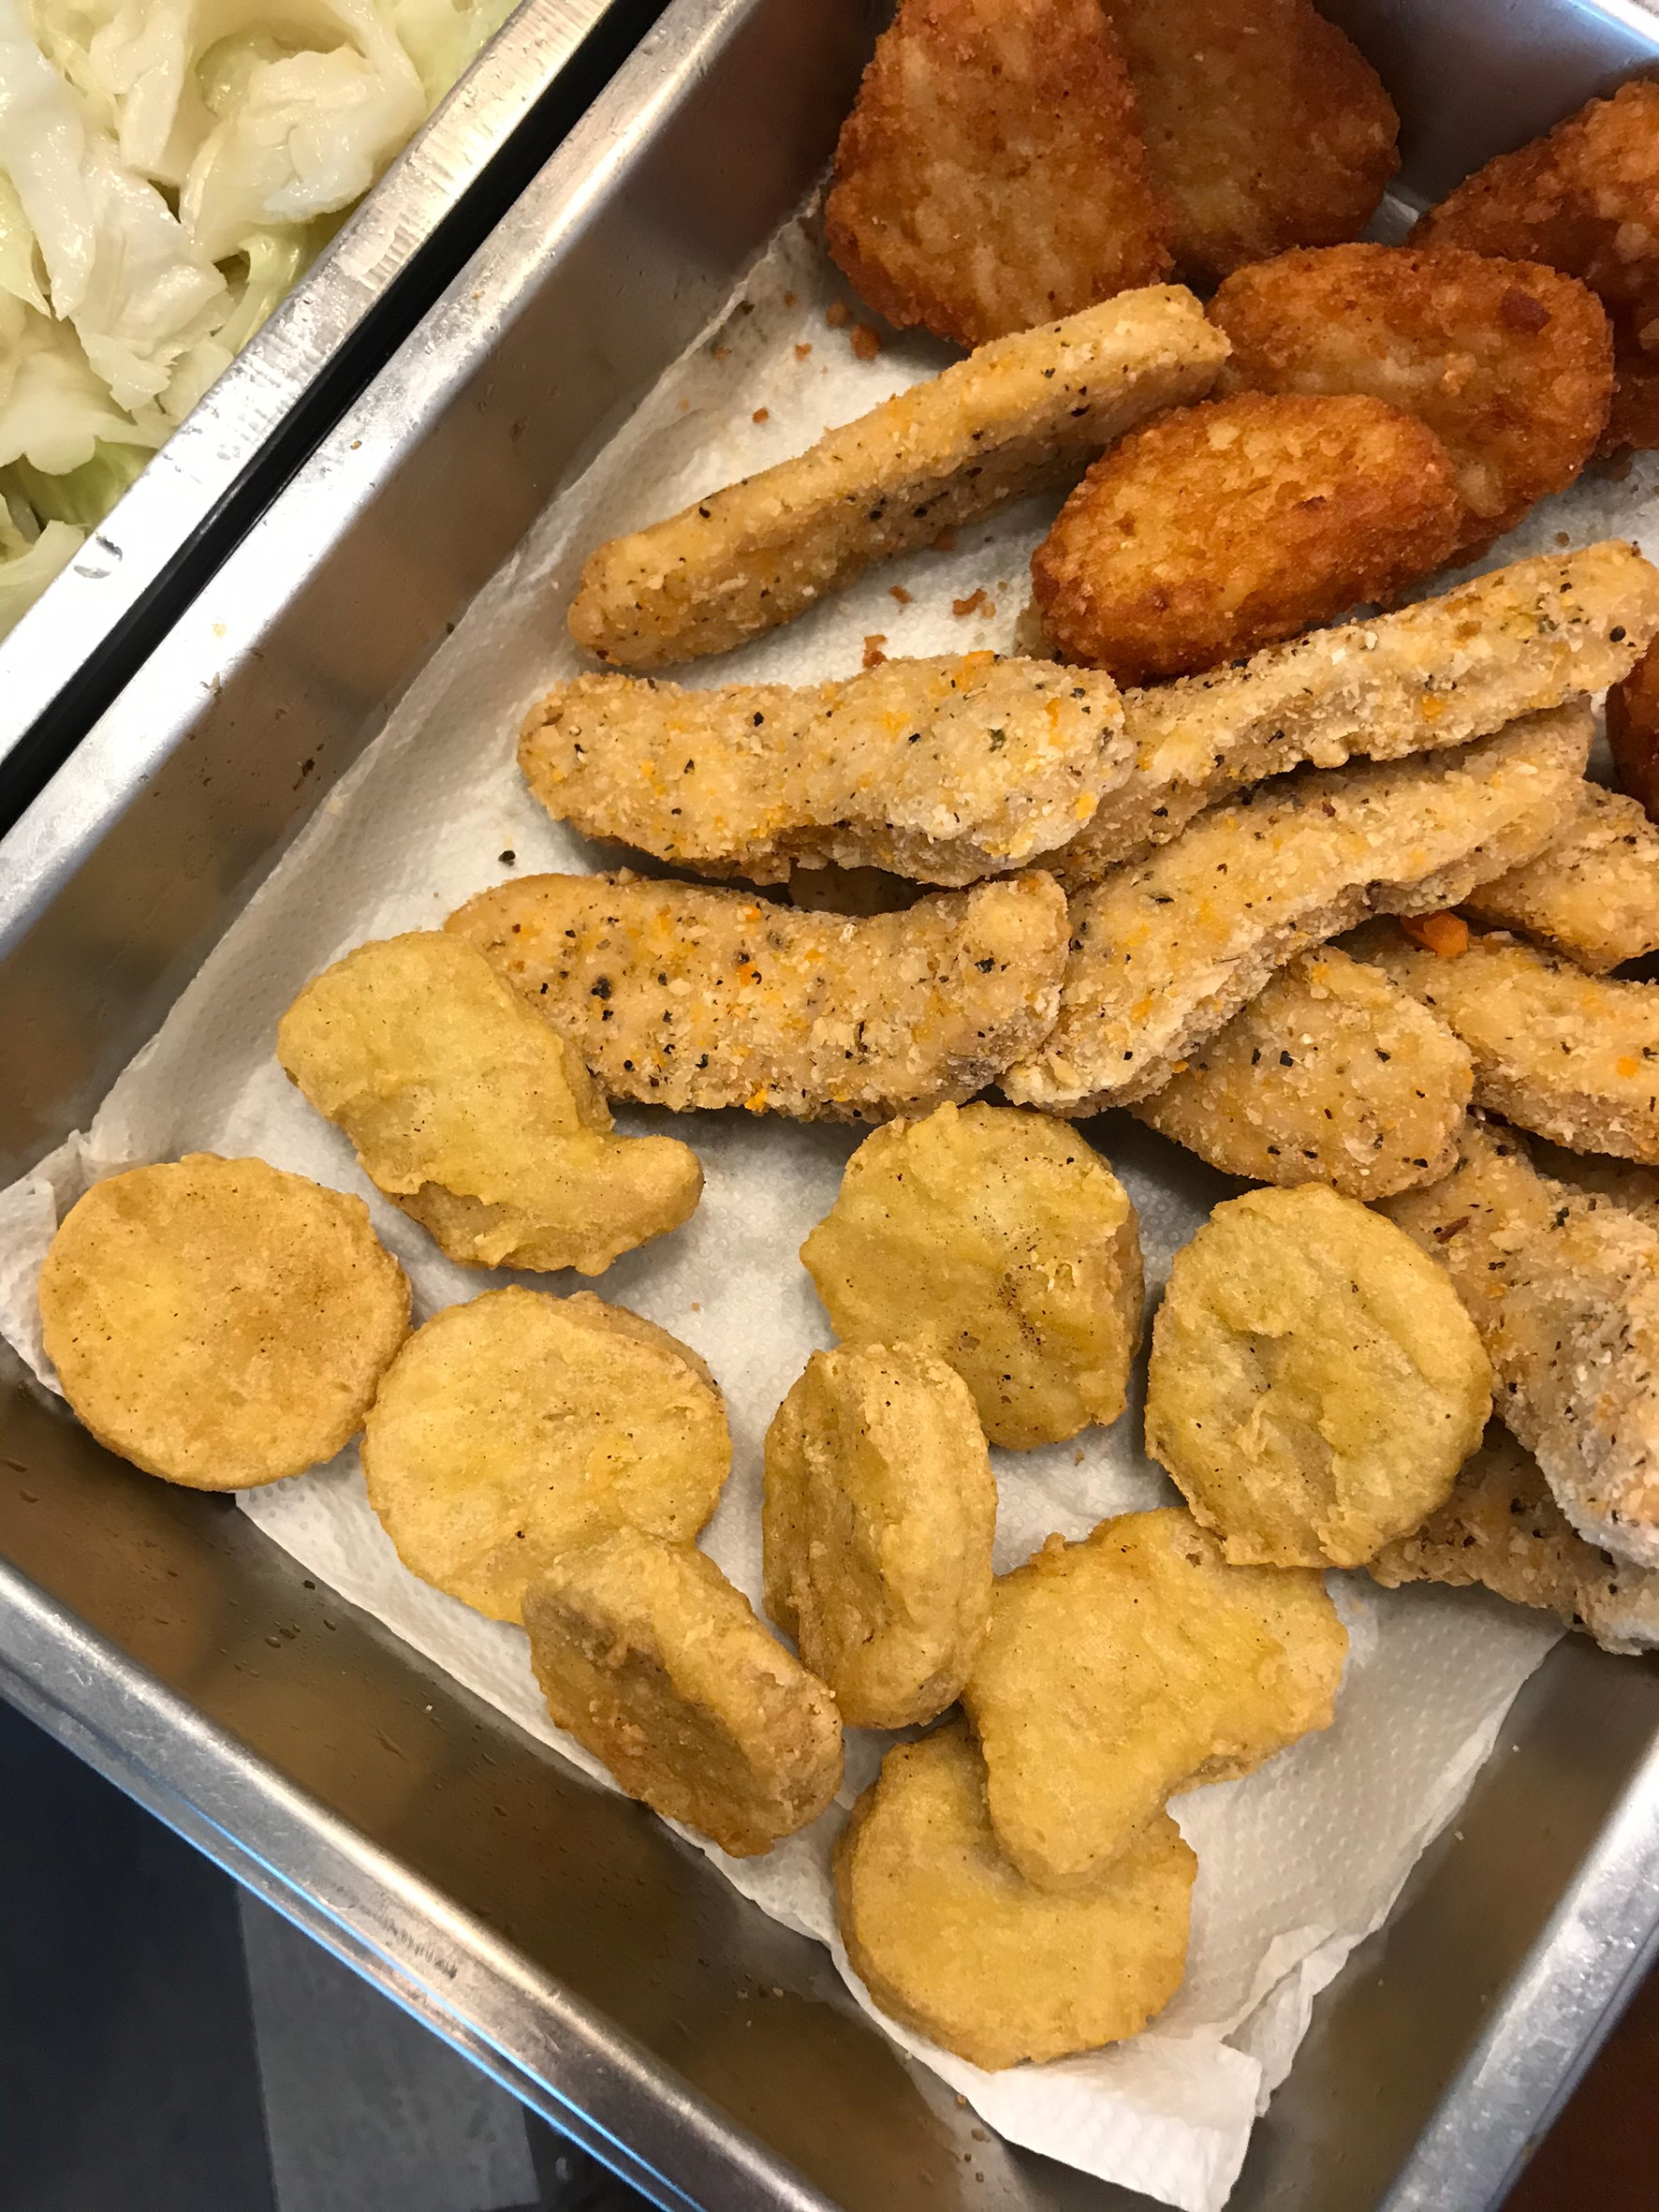chicken_nuggets: (115, 969, 1453, 2038)
triangle_hash_brown: (880, 2, 1659, 612)
